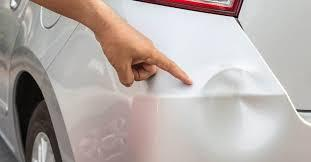dent: (200, 61, 296, 154)
